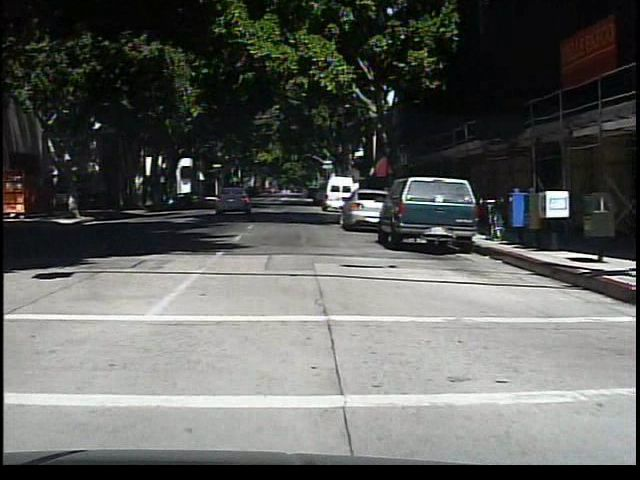person: (61, 179, 78, 219), (294, 180, 312, 207)
